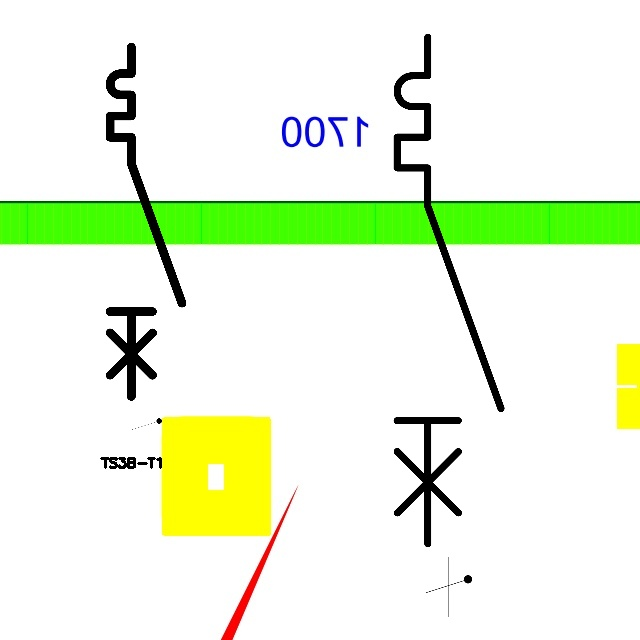interruptor_termomagnetico: (384, 24, 514, 556), (101, 38, 191, 405)
